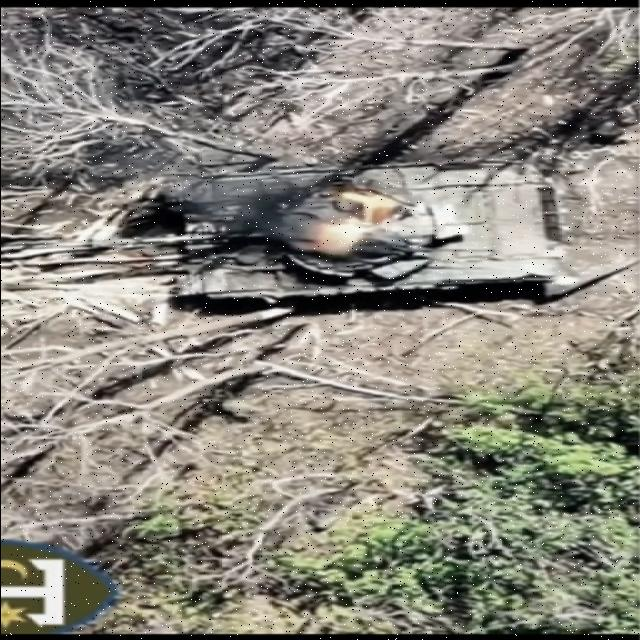TANK: (0, 166, 569, 298)
